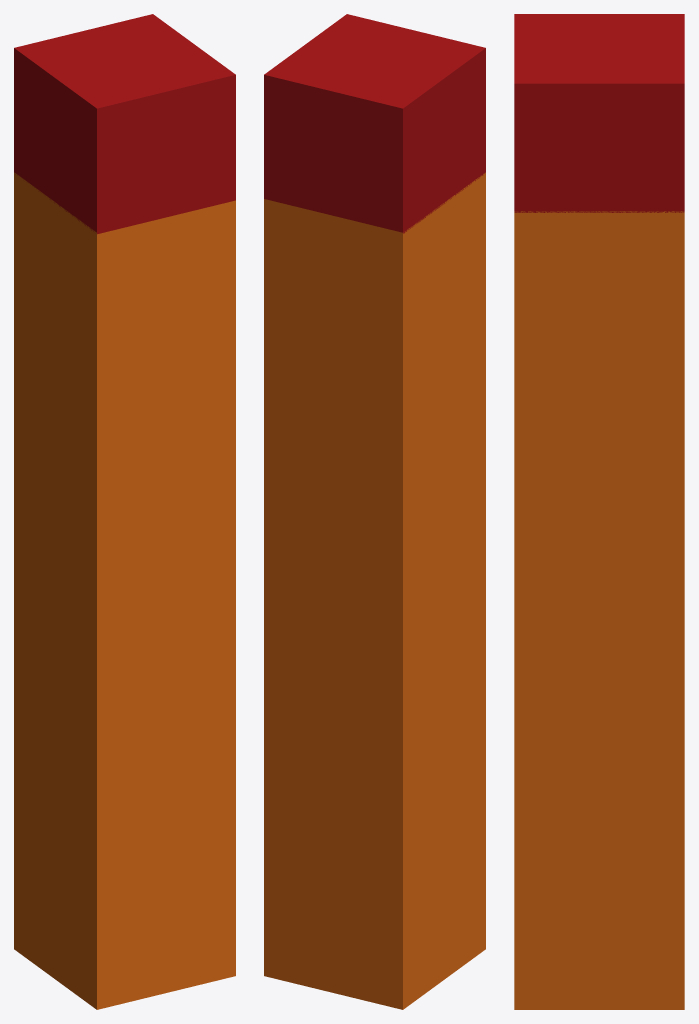
Rendered from MatchStick.fbx.
3 views of the same model, side by side, from view 1: azimuth 30°, elevation 25°; view 2: azimuth 150°, elevation 25°; view 3: azimuth 270°, elevation 25° (orthographic). The views are drawn at different scales.
Visible parts, largest first — view 1: Cube, Cube.001; view 2: Cube, Cube.001; view 3: Cube, Cube.001.
Part boxes in pixels (left/top/right/bottom): Cube: left=14, top=172, right=235, bottom=1009; Cube.001: left=14, top=14, right=235, bottom=234; Cube: left=264, top=172, right=485, bottom=1009; Cube.001: left=264, top=14, right=485, bottom=233; Cube: left=514, top=211, right=684, bottom=1009; Cube.001: left=514, top=14, right=684, bottom=212.
Size of the model in its own units: 11.56 by 71.63 by 11.95.
